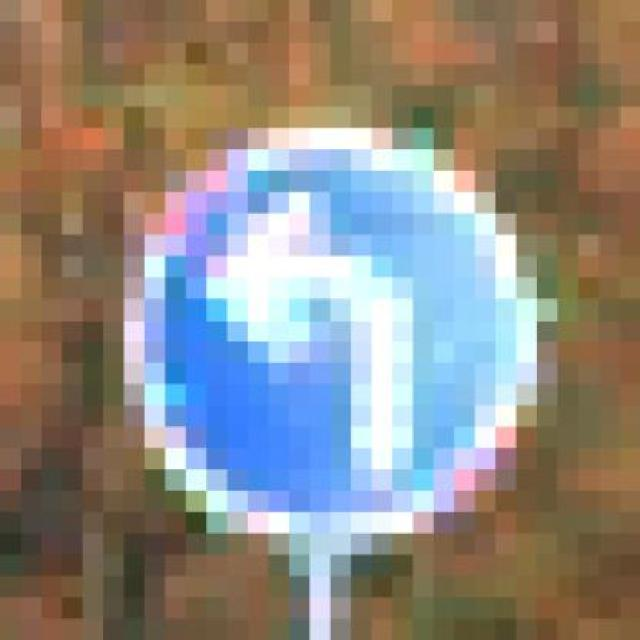Turn left ahead: (124, 107, 558, 576)
